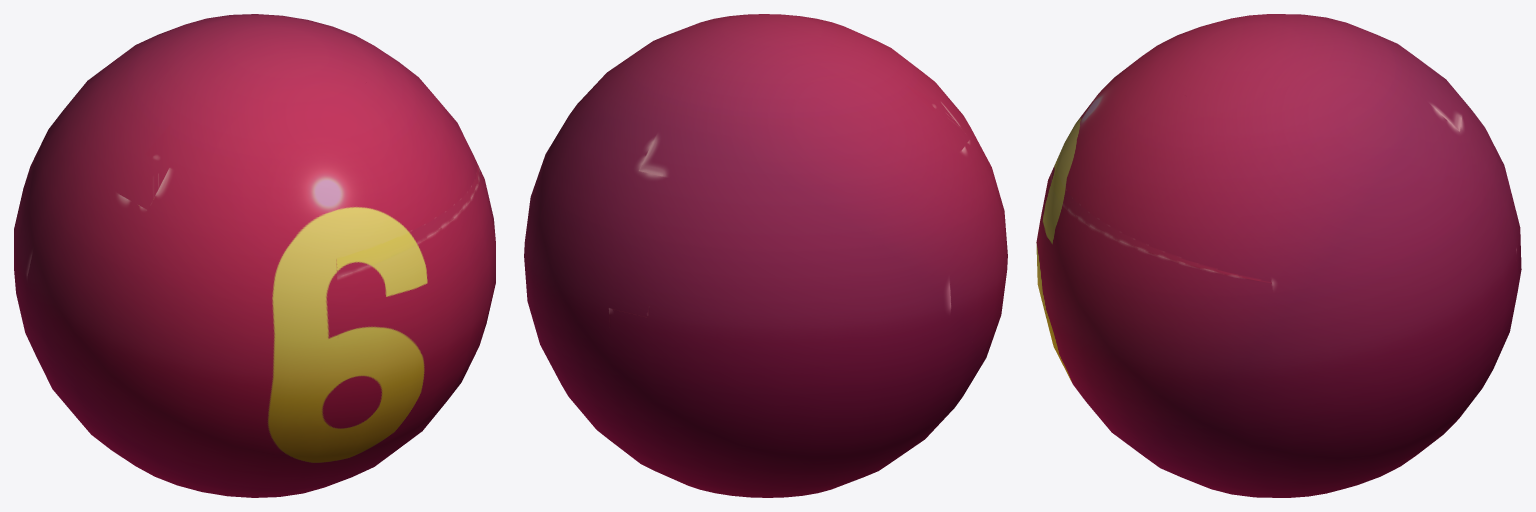
The model's file is Enemy 6.fbx.
3 views of the same model, side by side, from view 1: azimuth 30°, elevation 25°; view 2: azimuth 150°, elevation 25°; view 3: azimuth 270°, elevation 25° (orthographic).
Visible parts, largest first — view 1: Body 1.005; view 2: Body 1.005; view 3: Body 1.005.
Boxes of the visible parts, x1,y1,x2,y2 form: Body 1.005: [14, 14, 495, 497]; Body 1.005: [524, 14, 1007, 497]; Body 1.005: [1036, 14, 1521, 497].
Bounding box in the file's own units: 474 × 474 × 474.
Materials: 1 (1 with a texture image).
